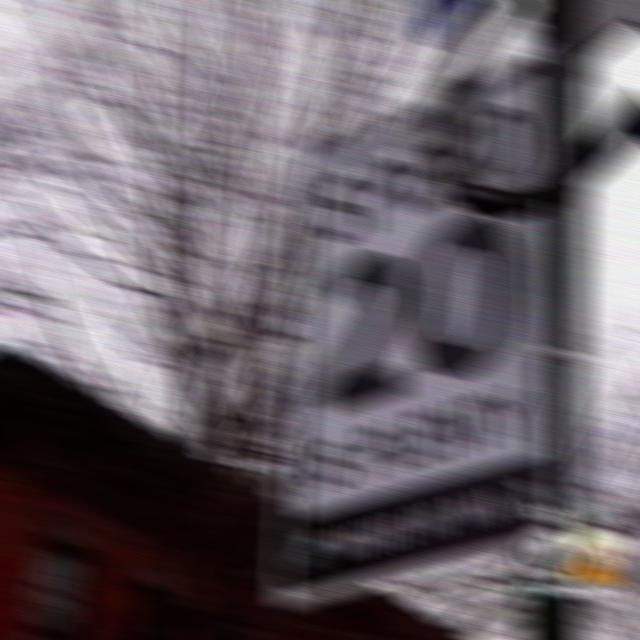speedLimit20: (293, 129, 558, 454)
